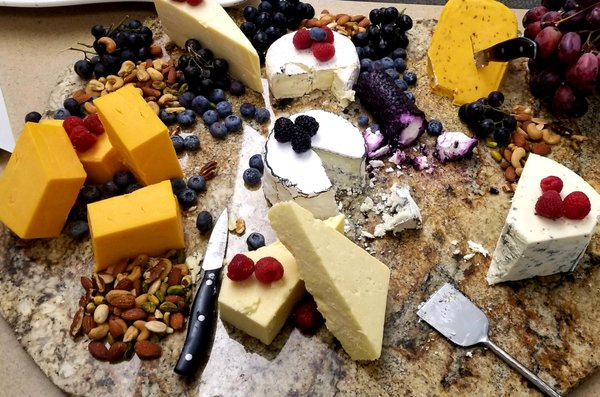sandwich: (174, 208, 232, 377)
